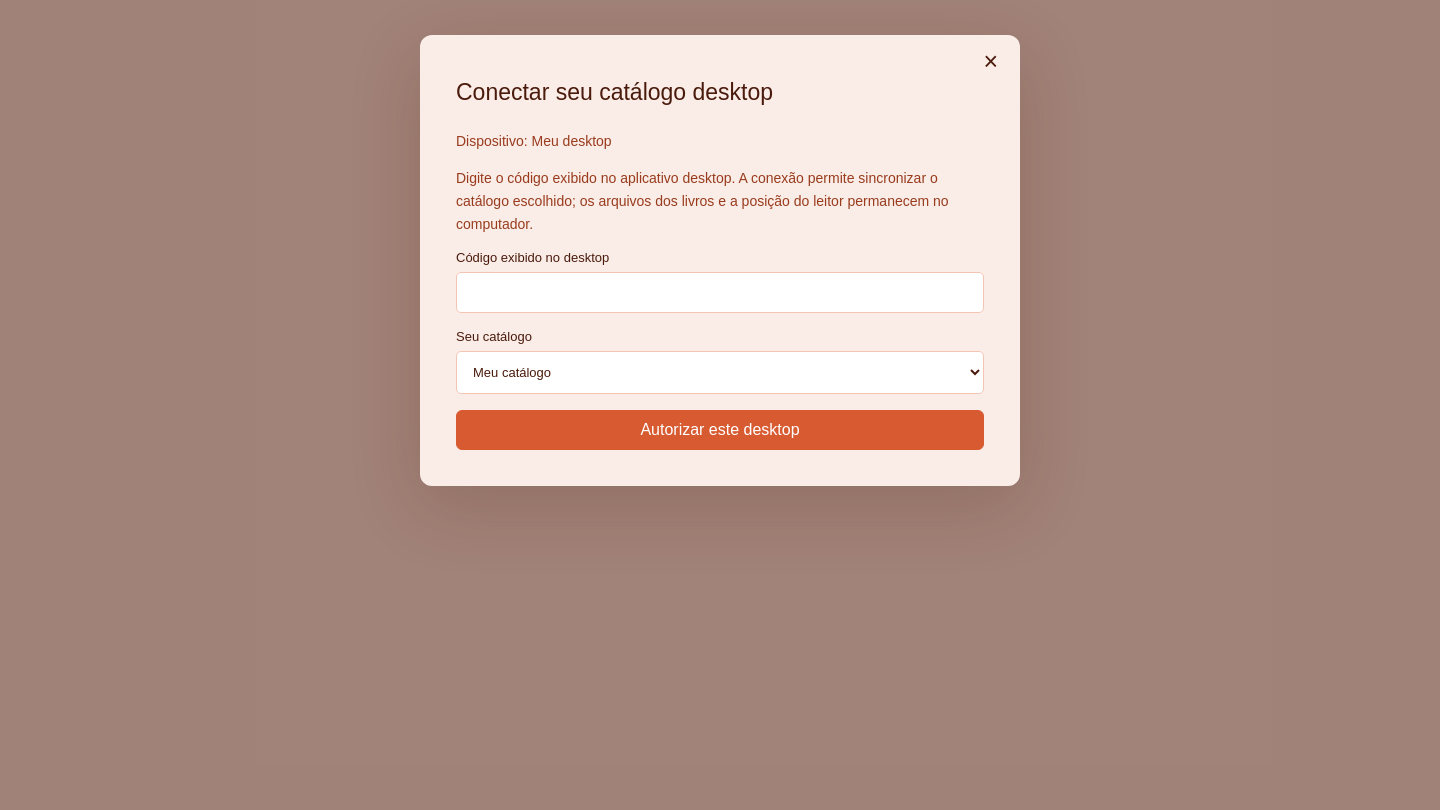
authorizes only the selected owned catalog after entering the desktop code
Expected: the text "Dispositivo: Meu desktop" is shown, [456, 133, 612, 149]
Type "abcd1234" into the field labelled "Código exibido no desktop". click: [720, 293]
box: [456, 272, 984, 313]
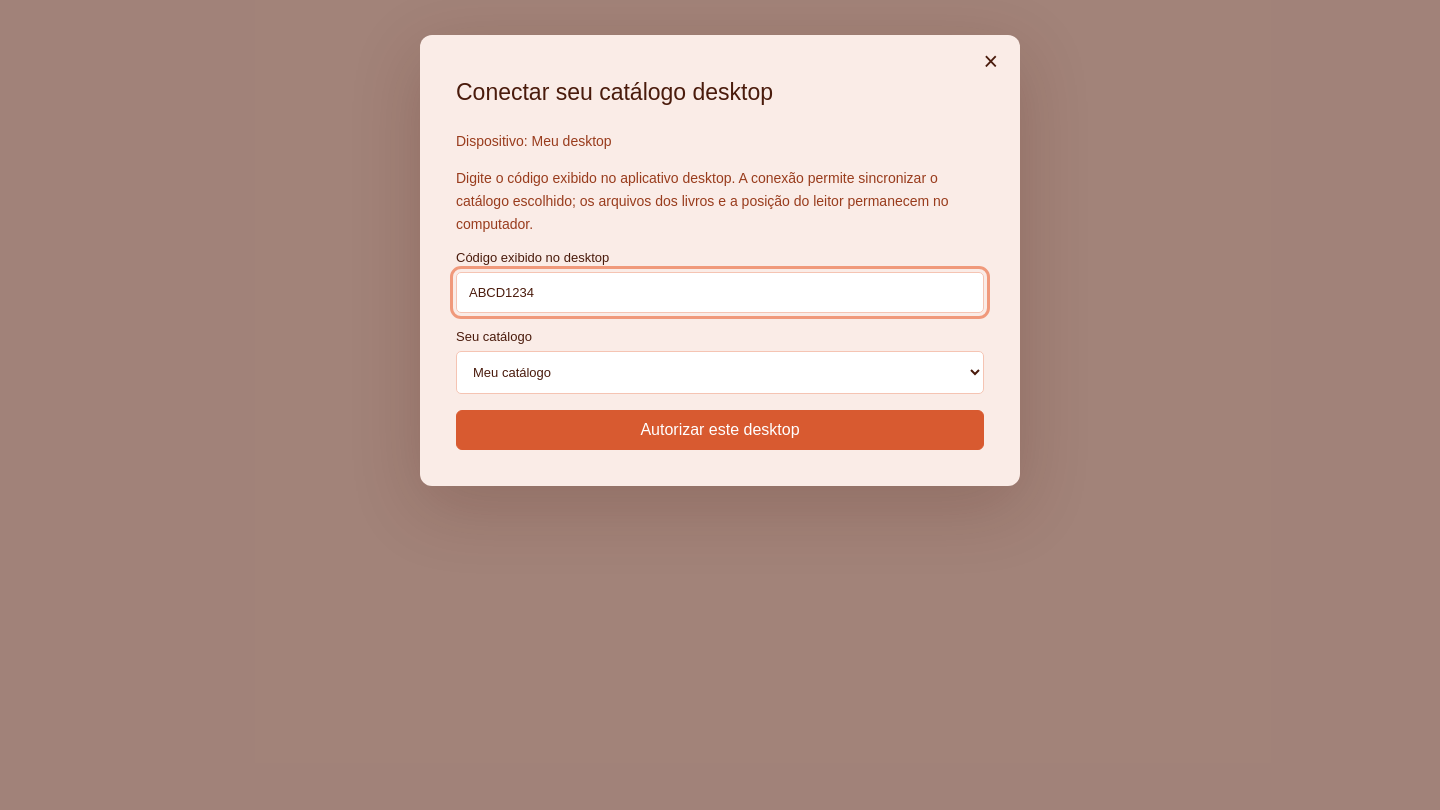
Click the button "Autorizar este desktop". click: [720, 430]
box: [456, 410, 984, 450]
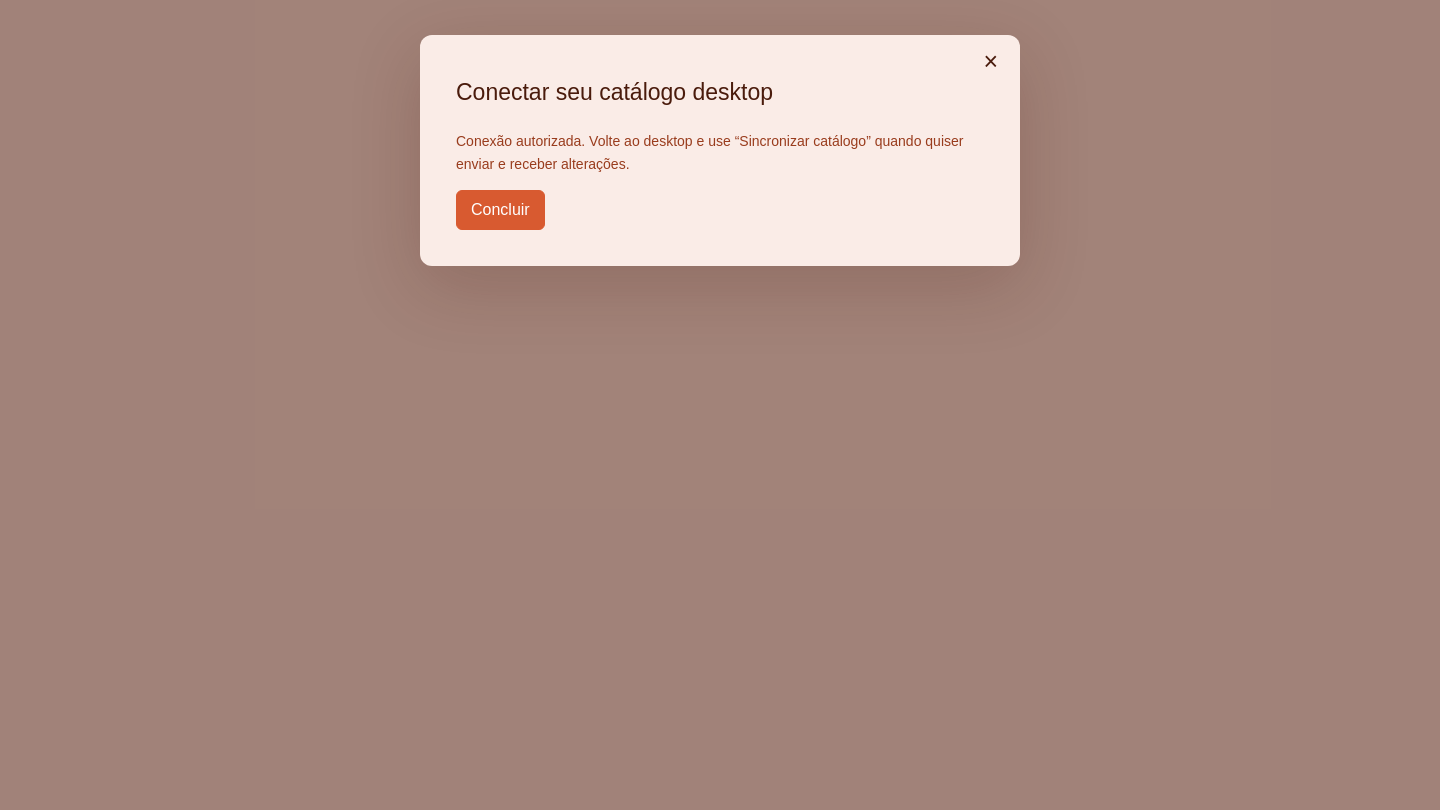
Expected: the text "Conexão autorizada" is shown, [456, 133, 964, 172]
